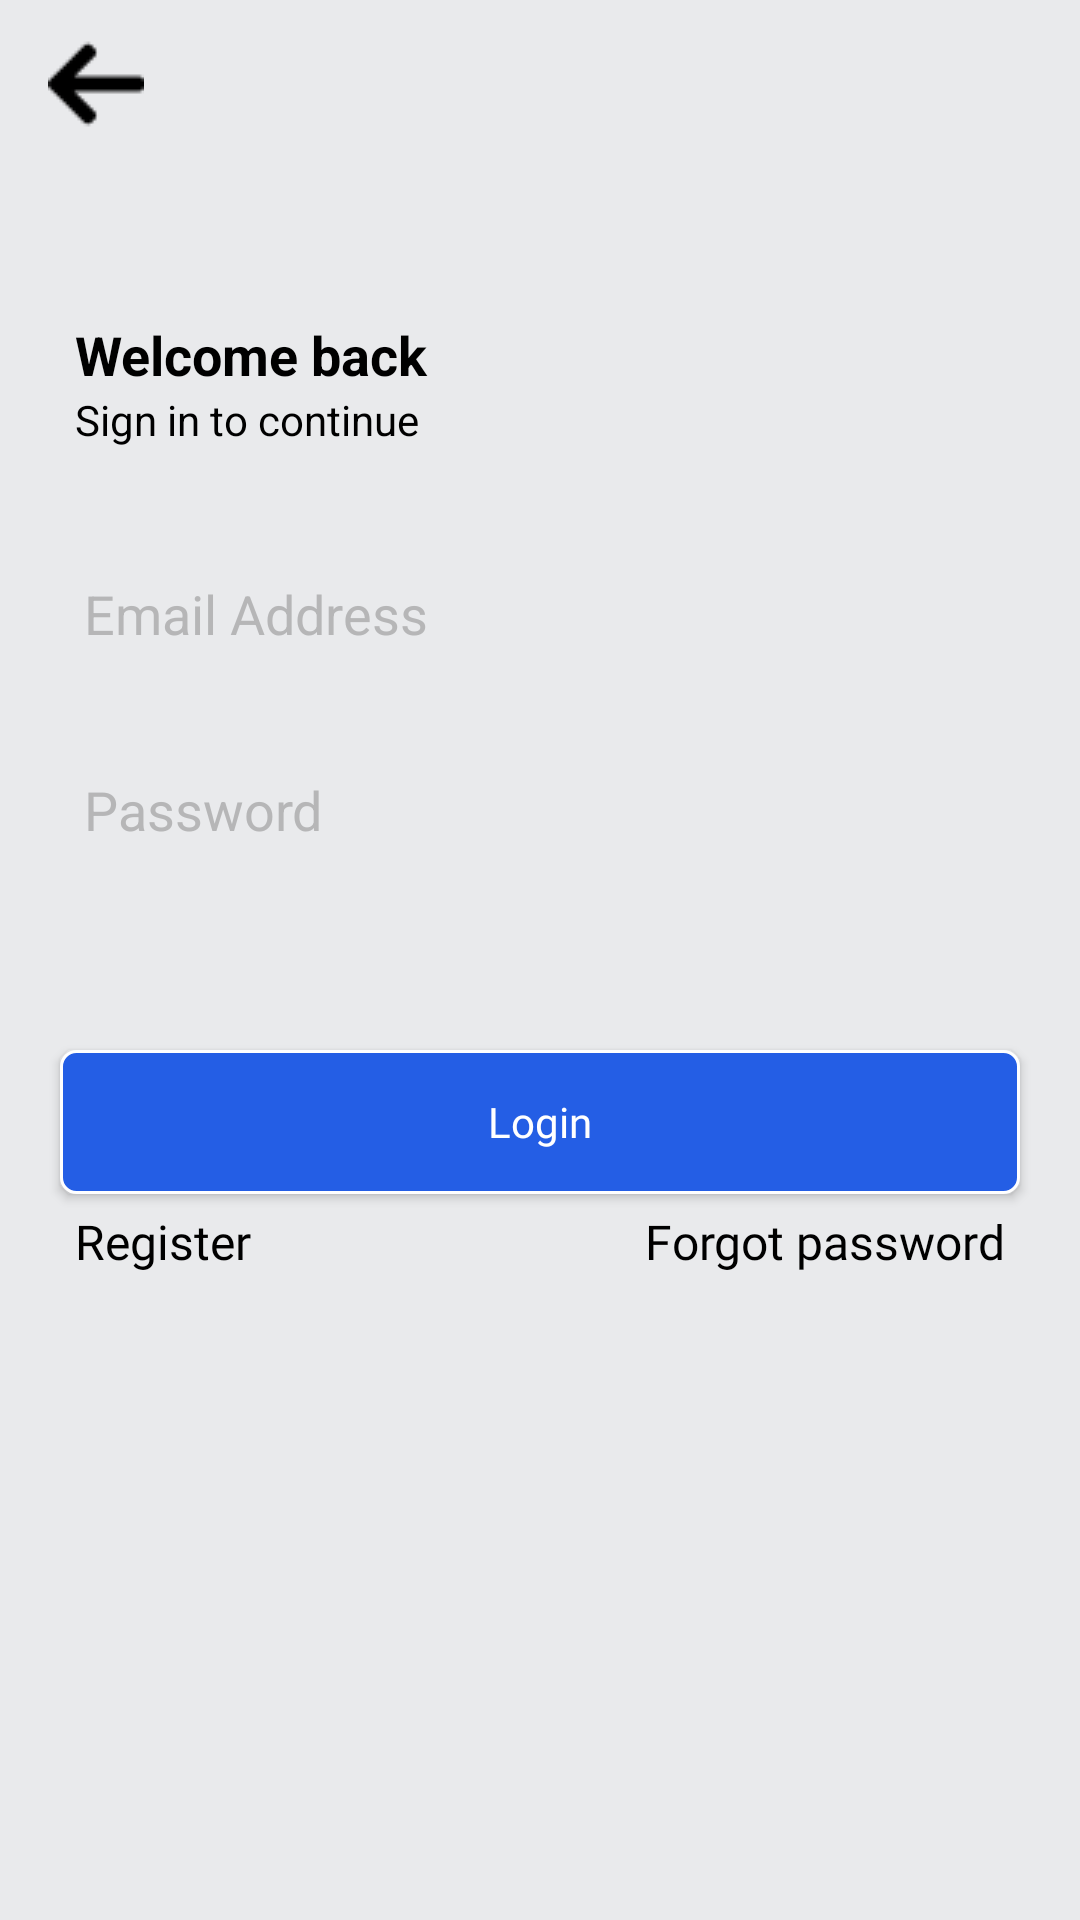

Icon bounding boxes for this 1080px x 1920px phone screenshot, format (x1, y1, x2, y2):
back arrow: (48, 42, 144, 126)
